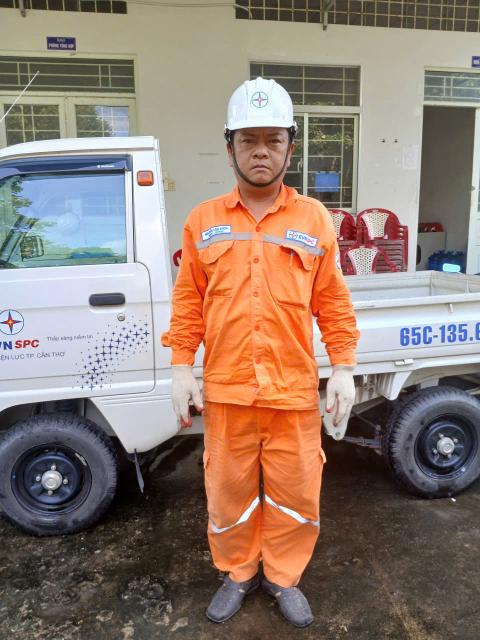gloves: (155, 357, 222, 433), (320, 359, 368, 444)
helmet: (221, 73, 304, 133)
shoes: (261, 569, 325, 627), (203, 559, 254, 623)
